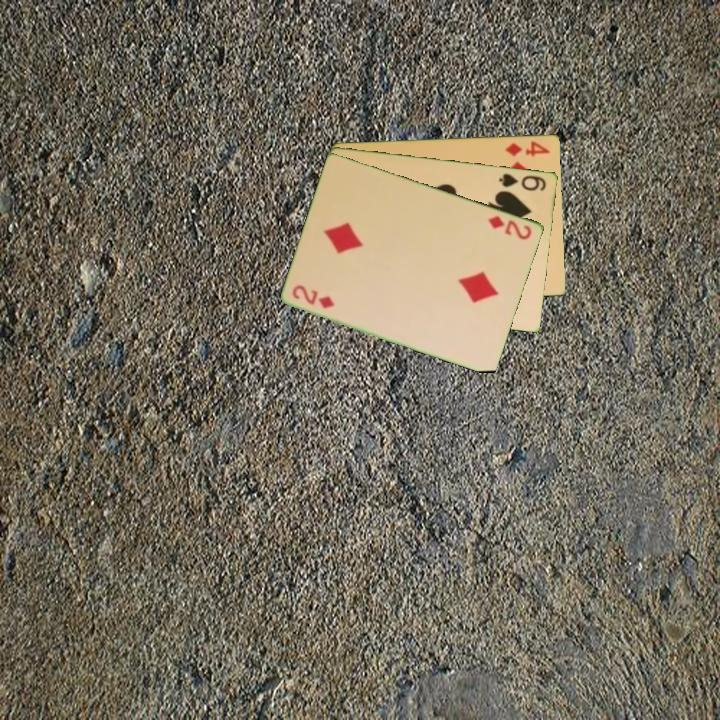2d: (485, 212, 535, 242), (289, 283, 337, 311)
4d: (502, 137, 553, 159)
6s: (496, 170, 549, 193)
